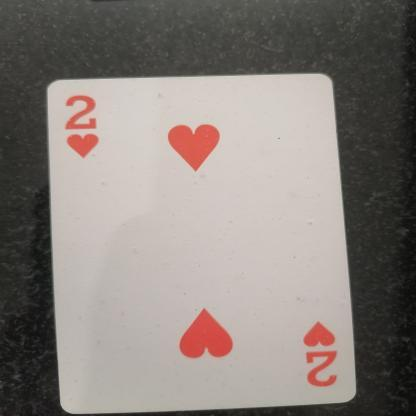2H: (53, 82, 125, 162), (284, 308, 350, 394)
